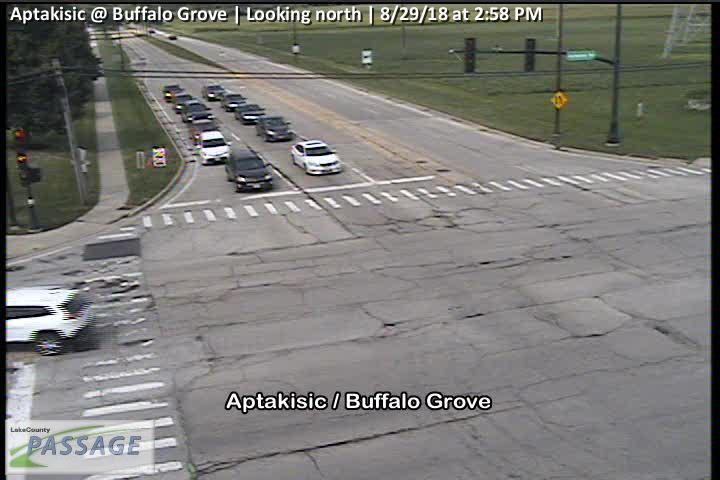SUV: (5, 287, 94, 357), (226, 149, 273, 192), (198, 131, 229, 164)
Sedan: (290, 140, 342, 176), (255, 115, 296, 141), (180, 101, 212, 122), (235, 103, 265, 123), (191, 119, 216, 142), (222, 93, 247, 111), (163, 85, 185, 103), (202, 84, 225, 100), (174, 93, 193, 111)
